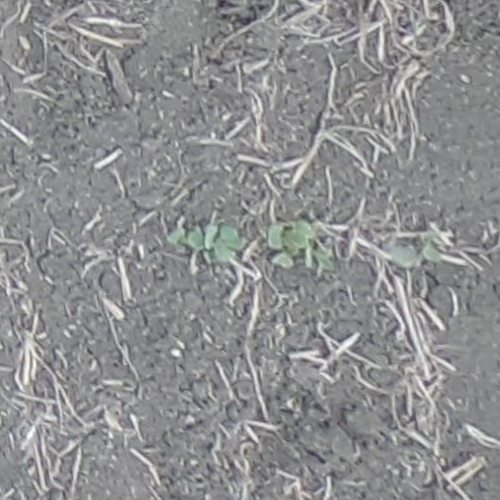isolated: (271, 221, 313, 269), (379, 238, 416, 268), (215, 227, 242, 265), (167, 226, 207, 249), (420, 232, 443, 262)
